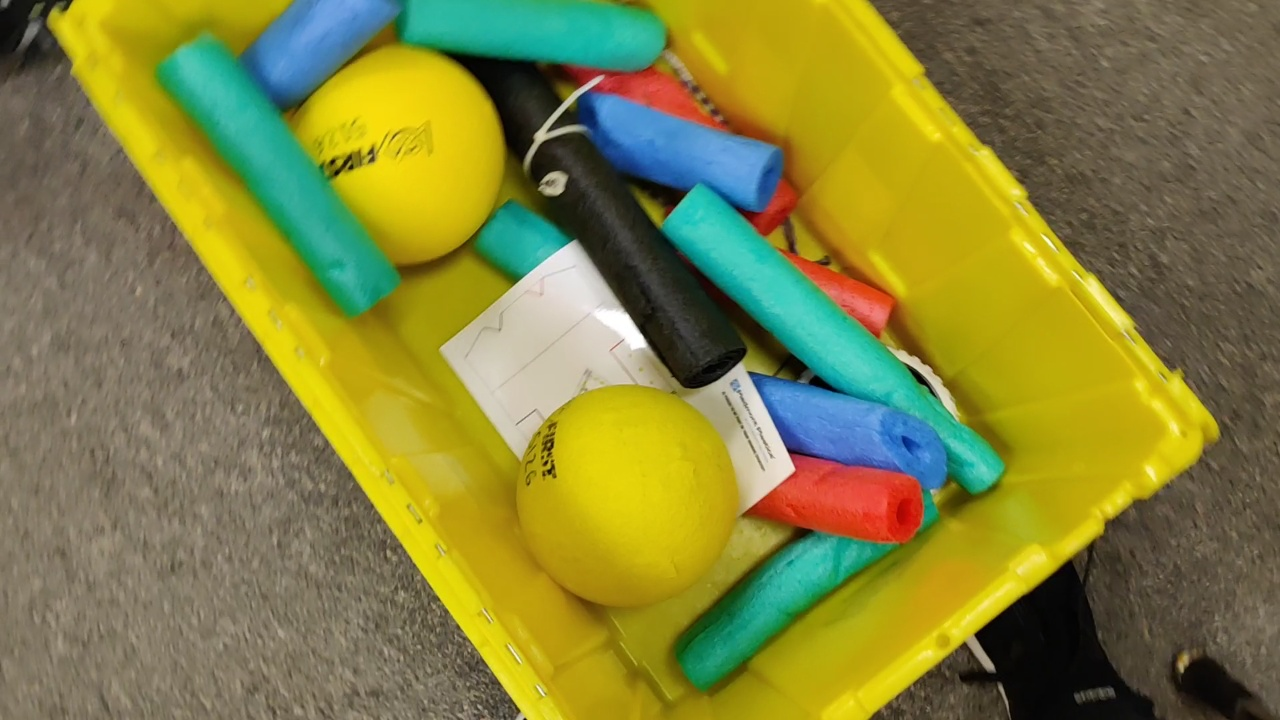Ball: (273, 45, 511, 266), (516, 384, 739, 607)
